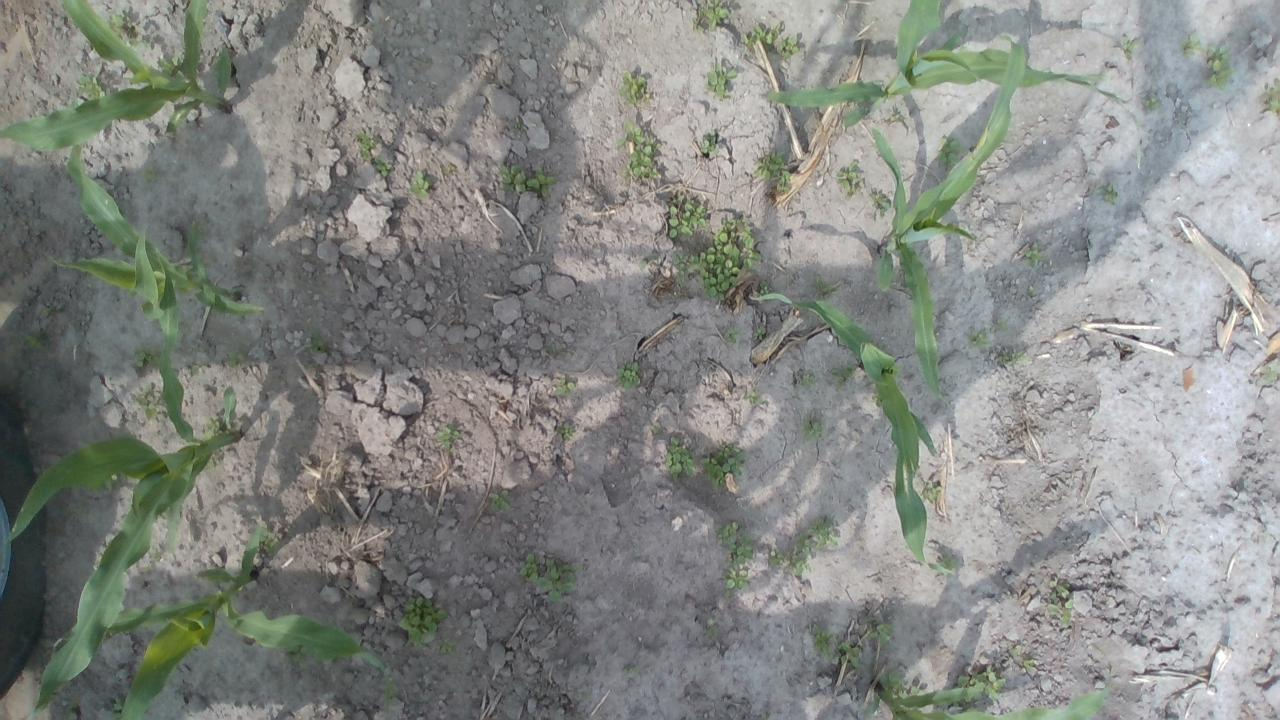Maize: (8, 251, 242, 720), (53, 526, 396, 720), (767, 0, 1145, 170), (749, 292, 958, 576), (870, 38, 1030, 397), (49, 142, 267, 321), (0, 0, 232, 151), (858, 669, 1112, 720)
Weeds: (699, 216, 762, 304), (398, 594, 449, 650), (615, 120, 658, 178), (699, 444, 746, 490), (956, 666, 1006, 704), (499, 164, 558, 195), (536, 560, 578, 603), (750, 151, 791, 191), (669, 199, 706, 240), (663, 436, 695, 480), (718, 521, 754, 560), (108, 10, 147, 46), (1205, 47, 1236, 92), (806, 512, 840, 550), (616, 69, 649, 108), (690, 0, 729, 33), (704, 62, 736, 100), (1046, 581, 1073, 625), (787, 534, 815, 576), (878, 671, 922, 697), (834, 158, 864, 192), (742, 22, 778, 50), (135, 384, 163, 420), (672, 250, 698, 288), (936, 135, 966, 167), (810, 624, 834, 662), (724, 562, 748, 598), (407, 170, 435, 199), (831, 362, 857, 393), (838, 641, 863, 673), (868, 622, 896, 650), (284, 644, 316, 668), (76, 74, 105, 100), (352, 132, 378, 160), (132, 344, 160, 369), (616, 362, 641, 390), (258, 527, 282, 555), (436, 423, 460, 450), (1009, 645, 1034, 670), (800, 417, 824, 442), (520, 552, 538, 583), (780, 34, 800, 60), (1182, 31, 1202, 57), (488, 490, 511, 512), (700, 126, 718, 154), (870, 192, 891, 216), (202, 415, 222, 440), (1024, 240, 1042, 266), (922, 480, 942, 503), (64, 695, 82, 720), (1264, 86, 1280, 114), (156, 55, 183, 71), (968, 330, 992, 348), (24, 332, 48, 350), (554, 378, 576, 397), (815, 275, 835, 295), (724, 326, 744, 346), (703, 618, 722, 639), (1120, 36, 1138, 58), (1260, 365, 1278, 386), (1103, 184, 1120, 206), (767, 548, 785, 568), (111, 697, 126, 720), (999, 351, 1024, 364), (140, 166, 160, 182), (744, 392, 766, 406), (375, 158, 392, 176), (439, 639, 456, 657), (310, 334, 325, 354), (203, 456, 221, 472), (994, 318, 1010, 336), (942, 556, 958, 573), (1144, 96, 1160, 112), (559, 424, 575, 440), (800, 373, 815, 389), (624, 664, 640, 679), (104, 475, 118, 491), (870, 391, 883, 408), (752, 326, 766, 341), (227, 352, 240, 368), (158, 506, 169, 521), (759, 280, 770, 295), (649, 422, 662, 434), (72, 97, 86, 108), (892, 106, 902, 120), (150, 550, 161, 562), (545, 344, 557, 354), (638, 259, 648, 270)
